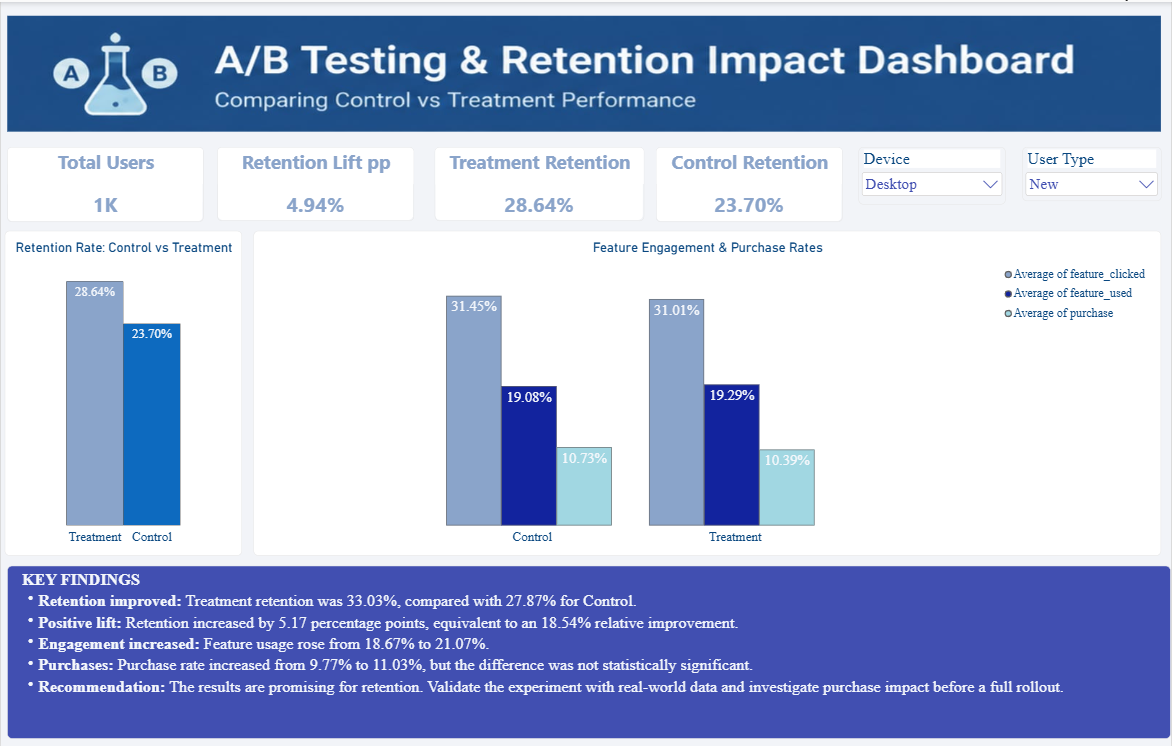

The dashboard page shown, as its layout file describes it:
{"tool":"powerbi","page":{"name":"Page 1","canvas":[1920,1225],"ordinal":0},"visuals":[{"type":"cardVisual","title":"Total Users","fields":{"Data":["ab_test_data.Total Users"]},"box":[10.3,238.1,322.3,123.2],"z":0},{"type":"cardVisual","title":"Treatment Retention","fields":{"Data":["ab_test_data.Treatment Retention Rate"]},"box":[712.3,238.1,343.7,121.4],"z":1000},{"type":"cardVisual","title":"Control Retention","fields":{"Data":["ab_test_data.Control Retention Rate"]},"box":[1075.6,238.1,306.7,123.5],"z":2000},{"type":"cardVisual","title":"Retention Lift pp","fields":{"Data":["ab_test_data.Retention Lift"]},"box":[355.1,238.1,323.2,121.4],"z":3000},{"type":"clusteredColumnChart","title":"Retention Rate: Control vs Treatment","fields":{"Category":["ab_test_data.group"],"Y":["Avg(ab_test_data.retained_day7)"]},"box":[6.2,375.6,390,533.7],"z":4000},{"type":"clusteredColumnChart","title":"Feature Engagement & Purchase Rates","fields":{"Category":["ab_test_data.group"],"Y":["Avg(ab_test_data.feature_clicked)","Avg(ab_test_data.feature_used)","Avg(ab_test_data.purchase)"]},"box":[414.6,375.6,1490.2,533.7],"z":5000},{"type":"textbox","box":[10.3,925.7,1910.1,284],"z":6000},{"type":"slicer","fields":{"Values":["ab_test_data.device"]},"box":[1408.1,238.1,241.5,94],"z":7000},{"type":"slicer","fields":{"Values":["ab_test_data.user_type"]},"box":[1677,238.1,228.6,88.5],"z":8000},{"type":"image","box":[10.3,22.6,1894.5,190.4],"z":9000}]}

Visuals, with their boxes in screenshot pixels (x1, y1, x2, y2), scaled from the page's 1920x1225 canvas onto the 1172x746 screenshot:
"Total Users" cardVisual: select_region(6, 145, 203, 220)
"Treatment Retention" cardVisual: select_region(435, 145, 645, 219)
"Control Retention" cardVisual: select_region(657, 145, 844, 220)
"Retention Lift pp" cardVisual: select_region(217, 145, 414, 219)
"Retention Rate: Control vs Treatment" clusteredColumnChart: select_region(4, 229, 242, 554)
"Feature Engagement & Purchase Rates" clusteredColumnChart: select_region(253, 229, 1163, 554)
textbox: select_region(6, 564, 1171, 737)
slicer - ab_test_data.device: select_region(860, 145, 1007, 202)
slicer - ab_test_data.user_type: select_region(1024, 145, 1163, 199)
image: select_region(6, 14, 1163, 130)
